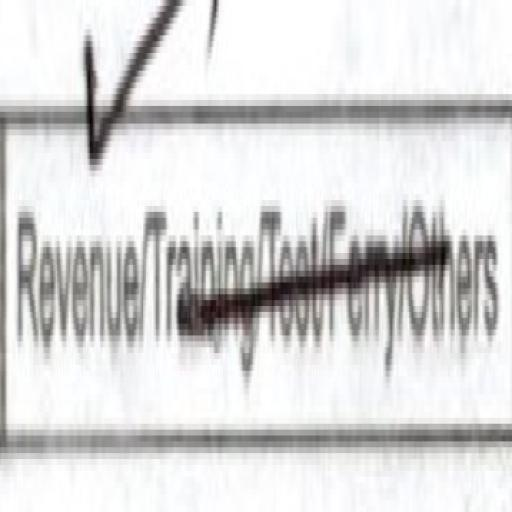check: (3, 0, 142, 471)
